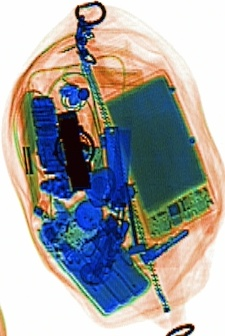powerbank: (37, 193, 150, 315)
